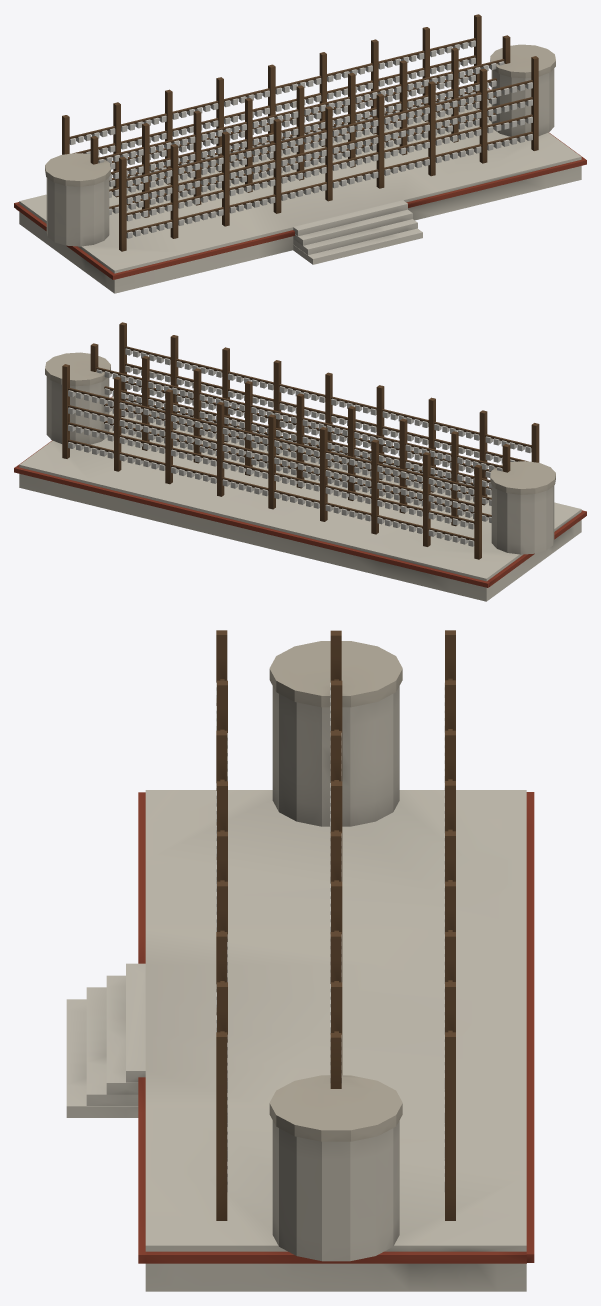
File: huey-tzompantli.glb
3 renders of one model, top to bottom at view 1: azimuth 30°, elevation 25°; view 2: azimuth 150°, elevation 25°; view 3: azimuth 270°, elevation 25°, orthographic. The views are drawn at different scales.
Visible parts, largest first — view 1: p0_platform, p2_skulls, p1_rack; view 2: p0_platform, p2_skulls, p1_rack; view 3: p0_platform, p2_skulls, p1_rack.
Boxes of the visible parts, bbox=[...] form: p0_platform: bbox=[14, 88, 586, 293]; p2_skulls: bbox=[45, 40, 555, 246]; p1_rack: bbox=[62, 14, 538, 251]; p0_platform: bbox=[14, 396, 586, 601]; p2_skulls: bbox=[45, 348, 555, 554]; p1_rack: bbox=[62, 322, 539, 559]; p0_platform: bbox=[66, 790, 534, 1291]; p2_skulls: bbox=[216, 641, 444, 1261]; p1_rack: bbox=[216, 630, 455, 1220].
Size of the model in its own units: 36.49 by 8.01 by 14.75.
